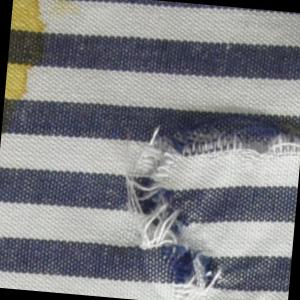Damage: (113, 101, 300, 300)
Oil Stain: (1, 1, 77, 142)
